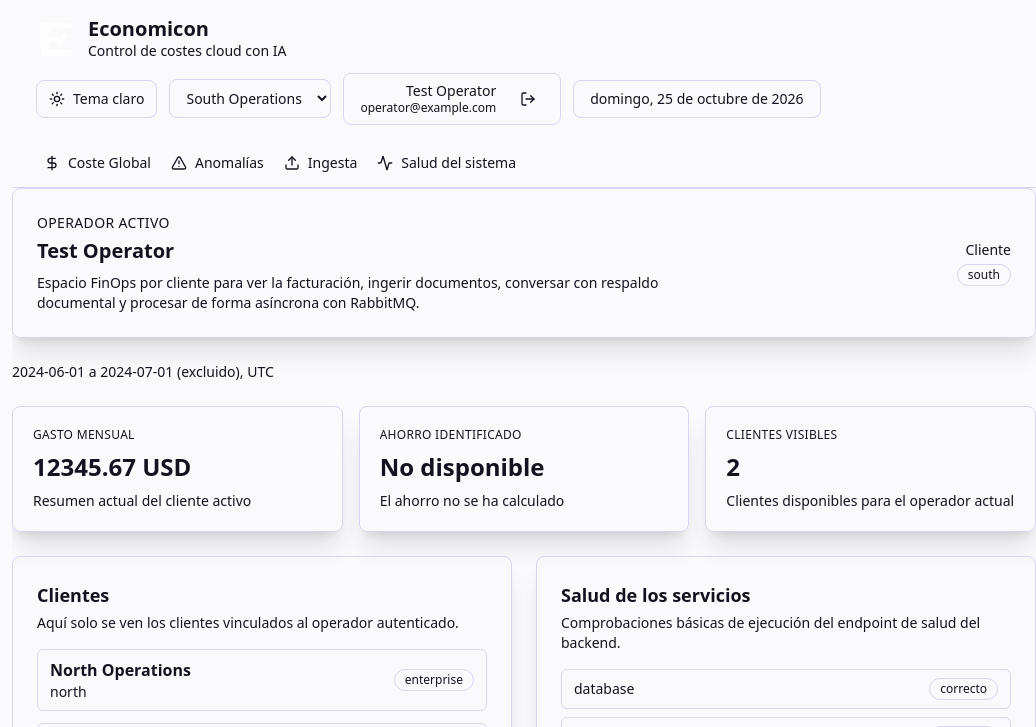
Test case: login and session recovery › restores the saved session and tenant across reloads, then clears data on logout
Expected: the text "Gasto mensual" is shown, [33, 426, 135, 442]
Expected: the dropdown named "Ámbito de cliente" shows "South Operations", [170, 79, 332, 118]
Click the button named "Cerrar sesión" at point(528, 99), box [512, 83, 544, 115]
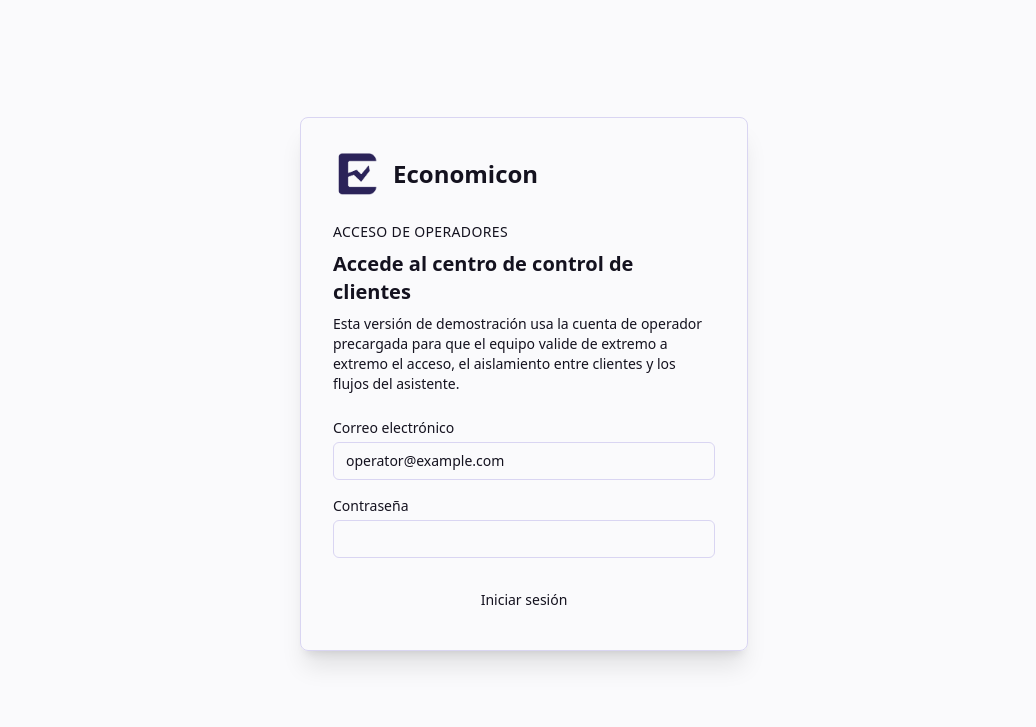
Expected: the heading "Accede al centro de control de clientes" is shown, [333, 250, 633, 305]
